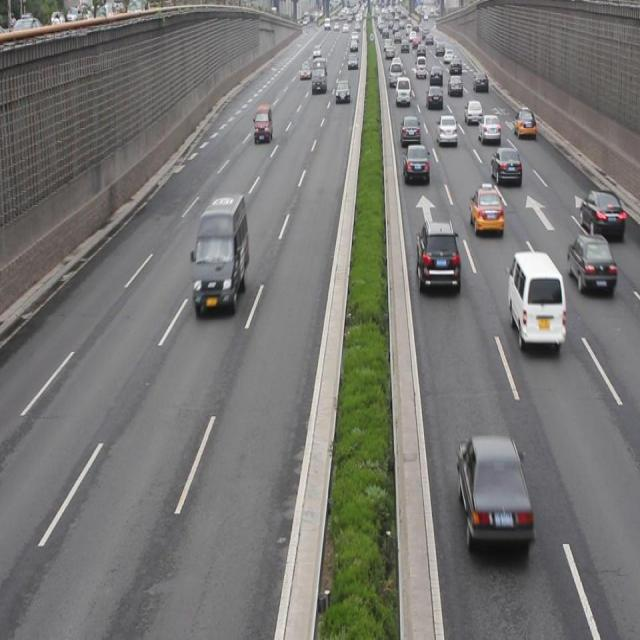car: (455, 430, 531, 554), (414, 218, 460, 298), (565, 234, 613, 296), (578, 187, 622, 248), (468, 186, 503, 236), (489, 145, 521, 187), (402, 142, 428, 183), (436, 114, 458, 148), (477, 112, 501, 143), (399, 116, 420, 144), (514, 110, 534, 138)
truck: (193, 196, 248, 314), (504, 249, 564, 357), (253, 104, 272, 145)
